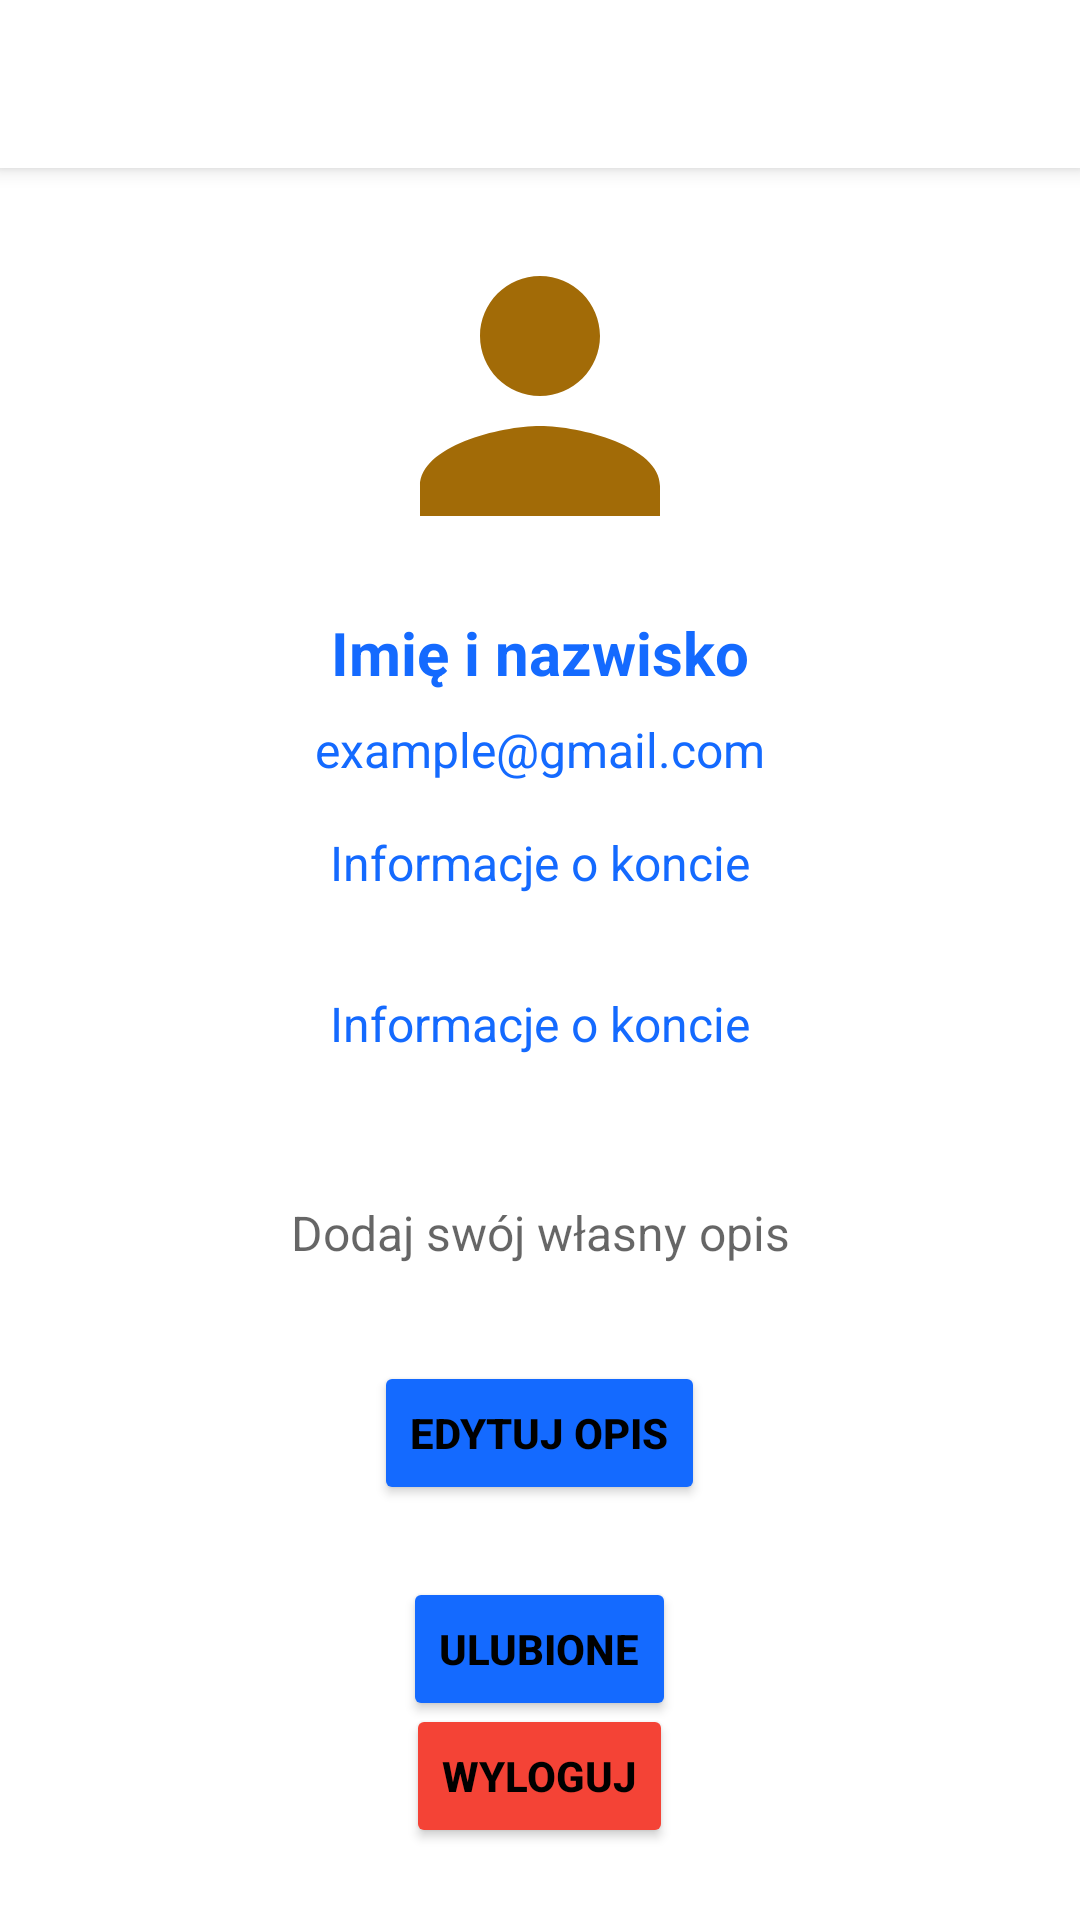

Locate icon controls on the screen. Image size 1080x1920, boxes as (x1, y1, x2, y2).
Zdjęcie profilu użytkownika: (420, 276, 660, 516)
